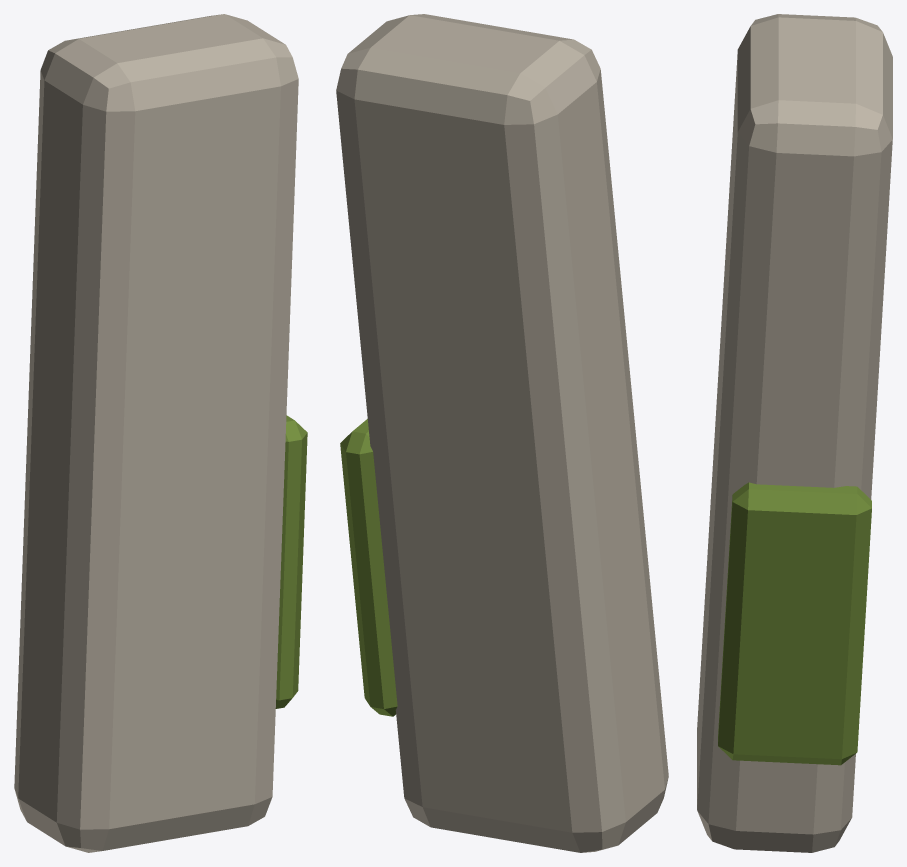
Rendered from standing_stone.fbx.
3 renders of one model, left to right at view 1: azimuth 30°, elevation 25°; view 2: azimuth 150°, elevation 25°; view 3: azimuth 270°, elevation 25°, orthographic. The views are drawn at different scales.
Parts seen in each view (by area): view 1: Prop; view 2: Prop; view 3: Prop.
Part boxes in pixels (x1=…): Prop: x1=14, y1=14, x2=307, y2=852; Prop: x1=336, y1=14, x2=668, y2=852; Prop: x1=697, y1=14, x2=892, y2=852.
Bounding box in the file's own units: 0.3892 × 0.2521 × 1.12.
